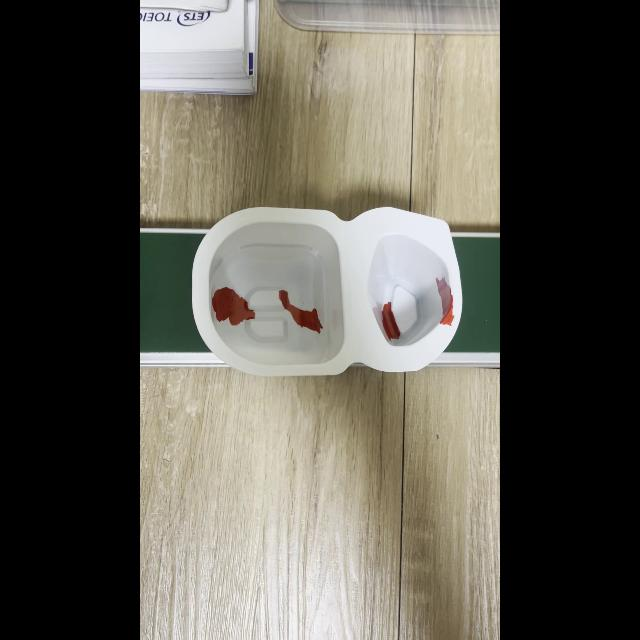dirty: (194, 206, 460, 374)
